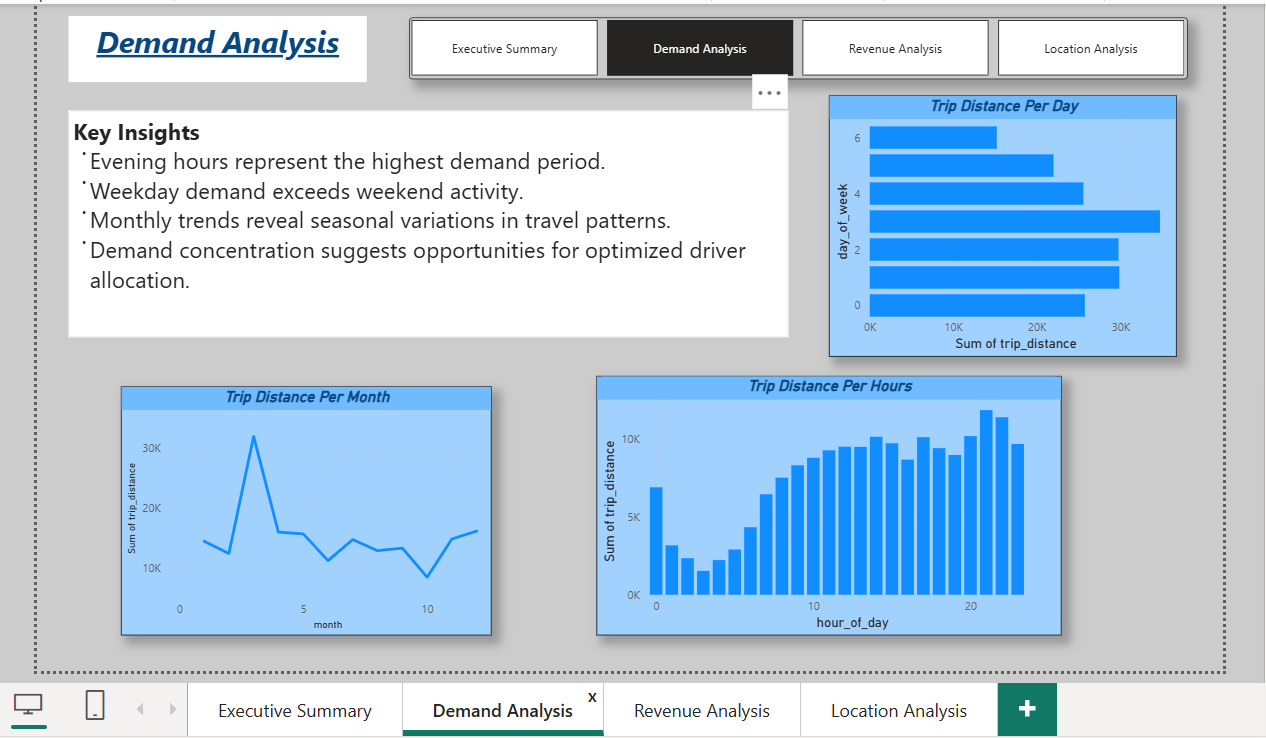

This screenshot's page, from the dashboard's own definition file:
{"tool":"powerbi","page":{"name":"Demand Analysis","canvas":[1280,720],"ordinal":1},"visuals":[{"type":"columnChart","title":"Trip Distance Per Hours","fields":{"Category":["uber_small.hour_of_day"],"Y":["Sum(uber_small.trip_distance)"]},"box":[604,401.6,502,280.1],"z":0},{"type":"barChart","title":"Trip Distance Per Day","fields":{"Category":["uber_small.day_of_week"],"Y":["Sum(uber_small.trip_distance)"]},"box":[855,98.8,375.7,281.7],"z":1000},{"type":"lineChart","title":"Trip Distance Per Month","fields":{"Category":["uber_small.month"],"Y":["Sum(uber_small.trip_distance)"]},"box":[90.7,412.9,399.9,268.8],"z":2000},{"type":"textbox","box":[34,13,322.2,71.2],"z":3000},{"type":"pageNavigator","box":[401.6,14.6,840.4,66.4],"z":4000},{"type":"textbox","box":[34,115,777.2,244.5],"z":5000}]}

Visuals, with their boxes on the page's 1280x720 design canvas (x1, y1, x2, y2). These are canvas units, not pixel positions in the 1266x738 screenshot, which may show the page scaled, cropped or inside an application window:
"Trip Distance Per Hours" columnChart: 604,402,1106,682
"Trip Distance Per Day" barChart: 855,99,1231,380
"Trip Distance Per Month" lineChart: 91,413,491,682
textbox: 34,13,356,84
pageNavigator: 402,15,1242,81
textbox: 34,115,811,360
